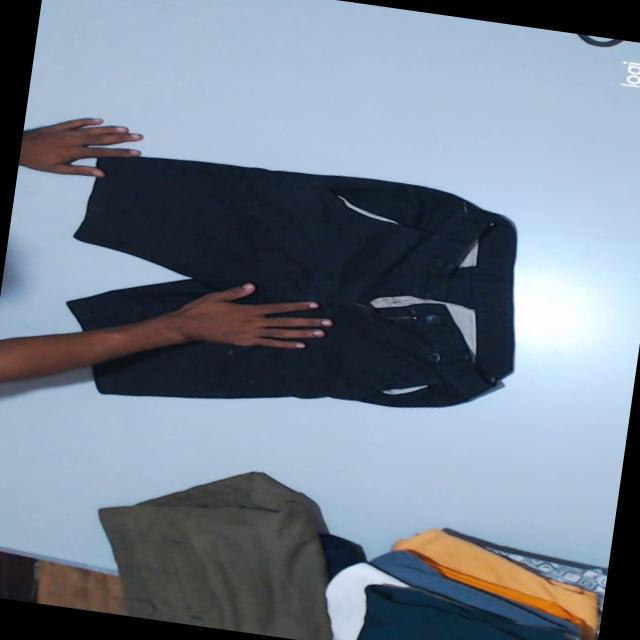new-garment: (68, 157, 516, 407)
